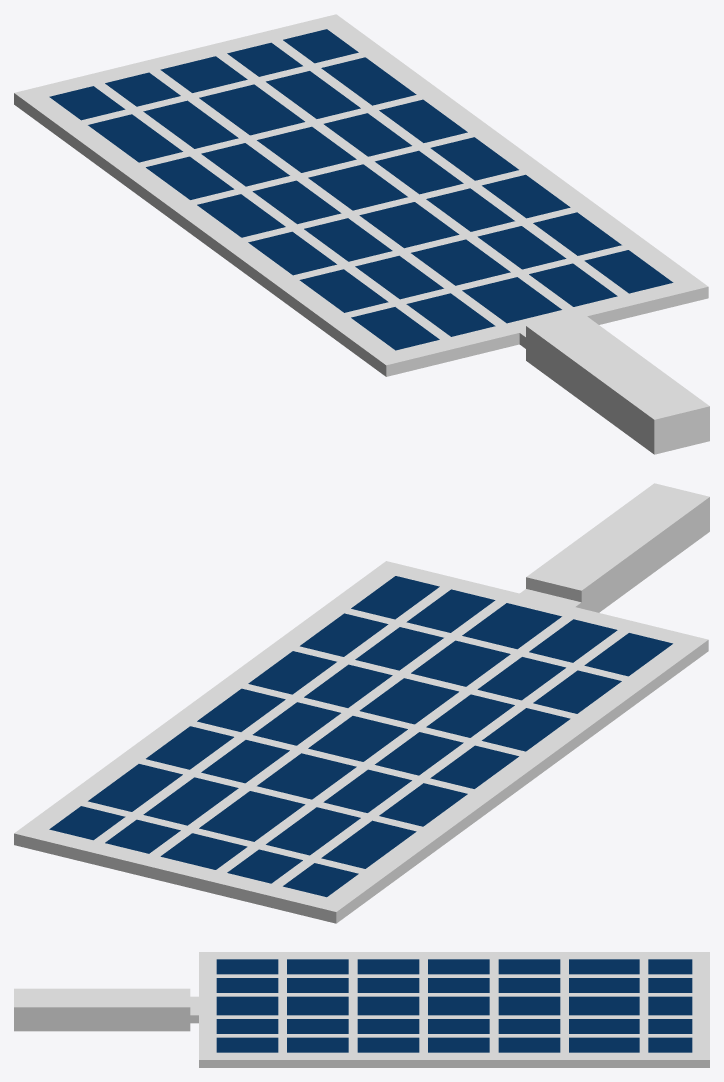
The model's file is solarPanel.FBX.
3 views of the same model, one above another, from view 1: azimuth 30°, elevation 25°; view 2: azimuth 150°, elevation 25°; view 3: azimuth 270°, elevation 25° (orthographic). The views are drawn at different scales.
Visible parts, largest first — view 1: default; view 2: default; view 3: default.
Boxes of the visible parts, box(x1,y1,x2,y2) form: default: box(14, 14, 709, 454); default: box(14, 483, 709, 923); default: box(14, 952, 709, 1067).
Size of the model in its own units: 29 by 79 by 3.
1 material, 1 textured.
